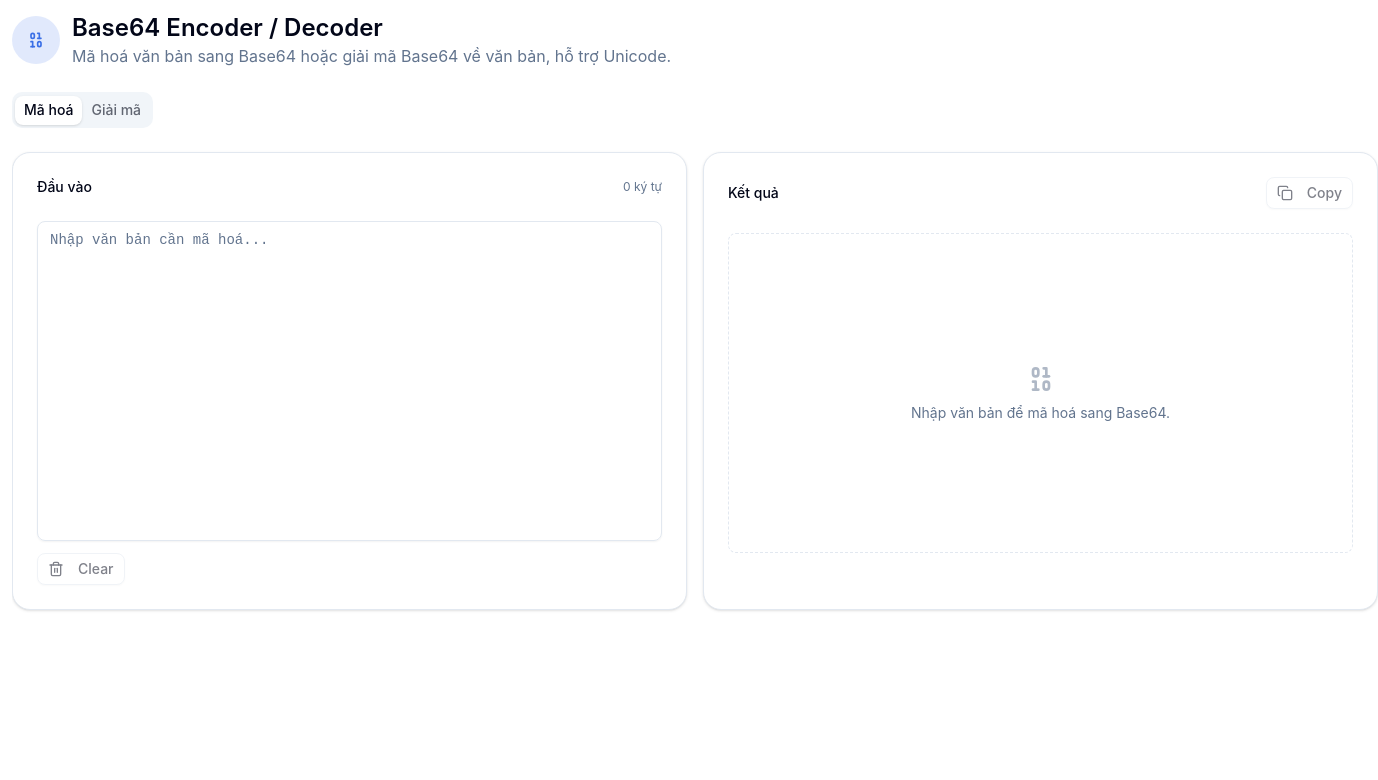
Test: Base64EncoderDecoderScreen › switches to Decode mode and live-decodes the same text field
The image size is (1378, 780).
Click the tab "Giải mã" at (116, 110), box [82,96,150,124]
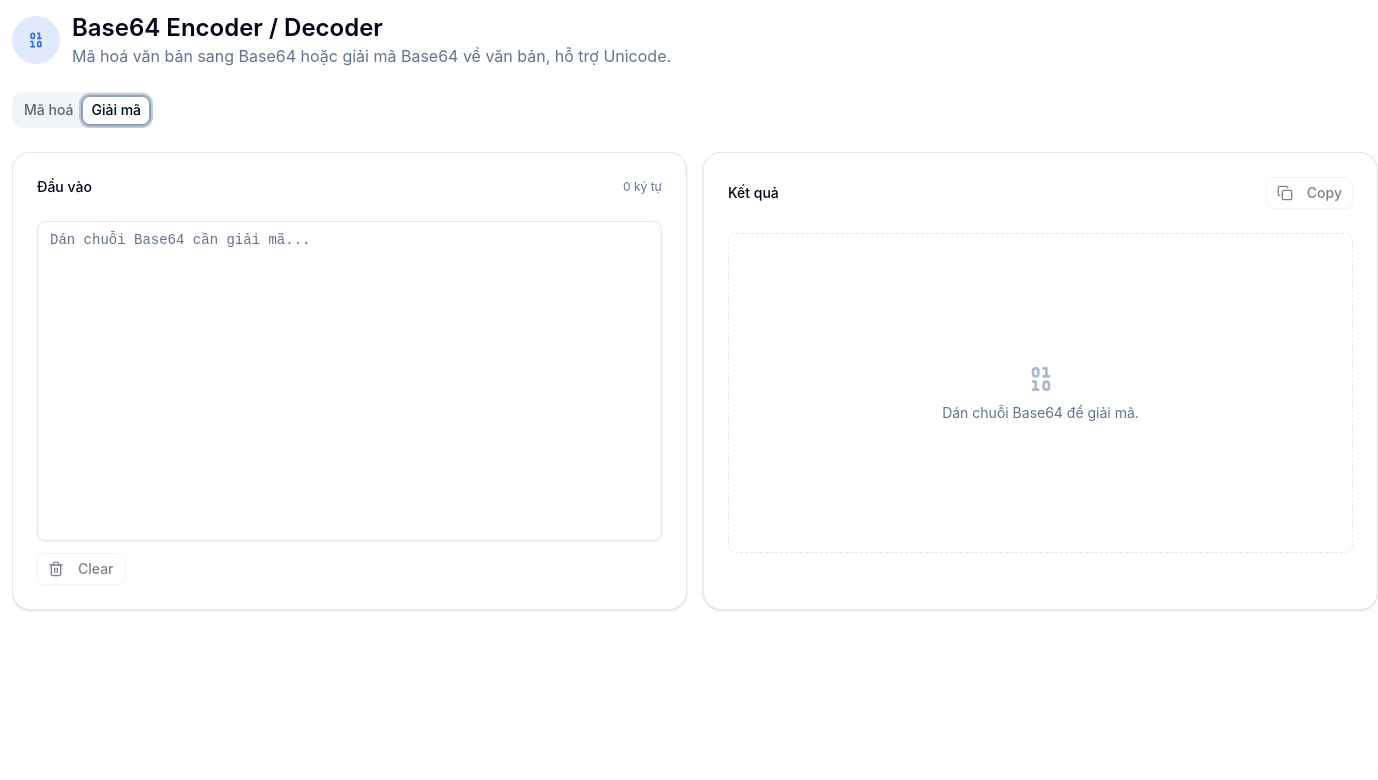
Type "SGVsbG8=" into the text box named "Đầu vào" at (350, 381), box [37,221,662,541]
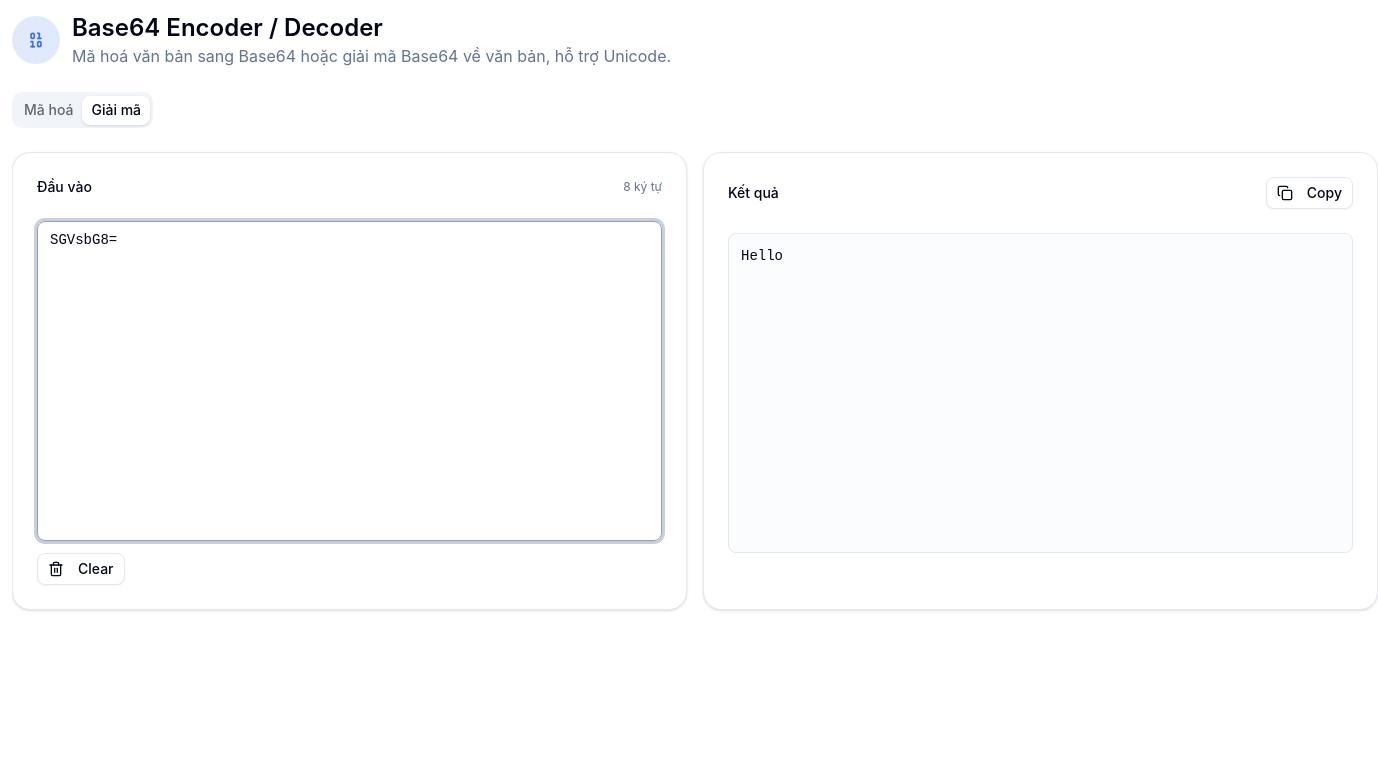
Check: the text "Hello" is shown, box [728,233,1353,553]
